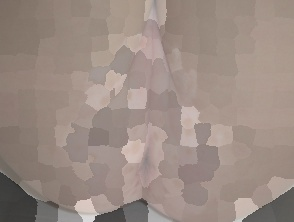vitiligo: (83, 0, 222, 214)
